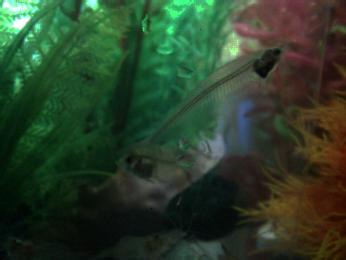X-ray fish: (112, 143, 191, 185)
glassfish: (146, 44, 286, 143)
siberian prawn: (102, 220, 191, 260)
